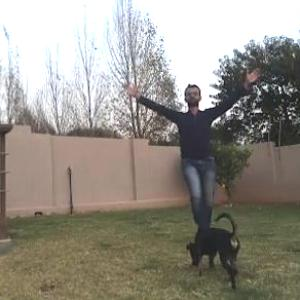takeoff: (121, 37, 299, 250)
